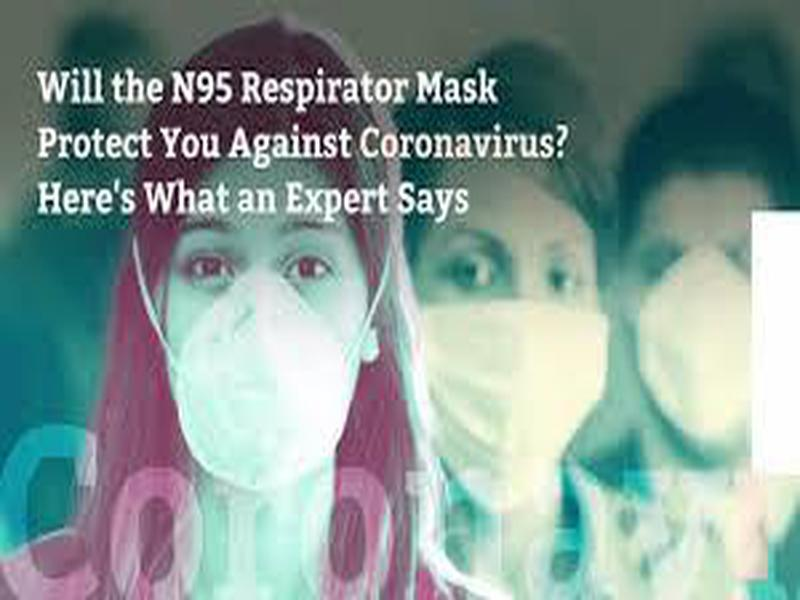with_mask: (413, 163, 609, 509), (156, 216, 367, 483), (627, 171, 751, 455)
